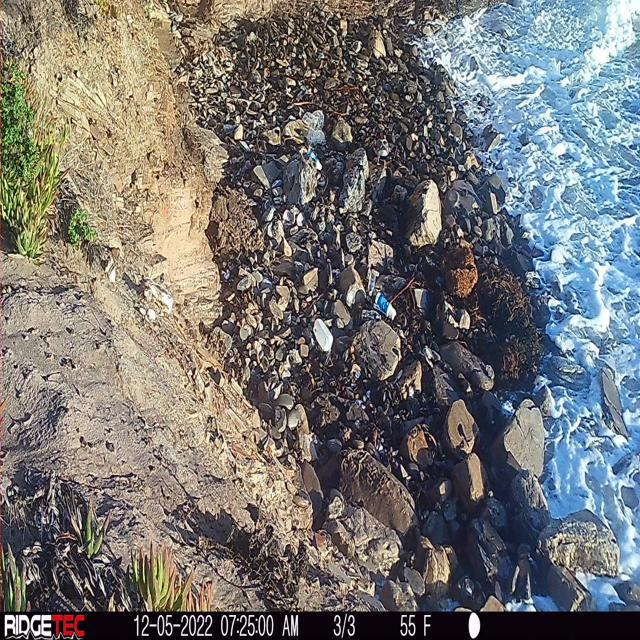bird: (371, 127, 392, 161)
